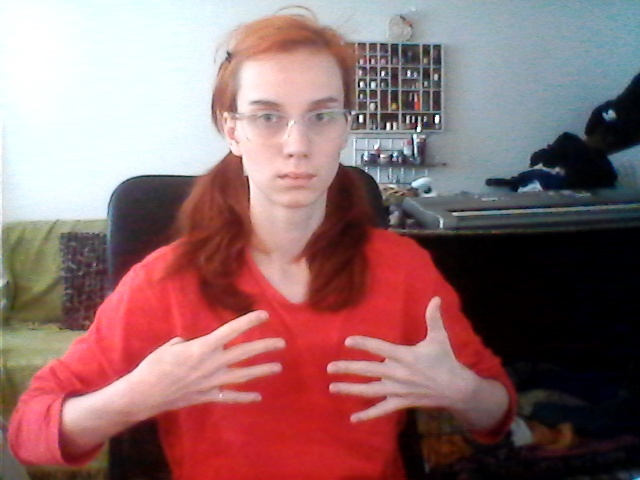devat: (172, 295, 463, 421)
